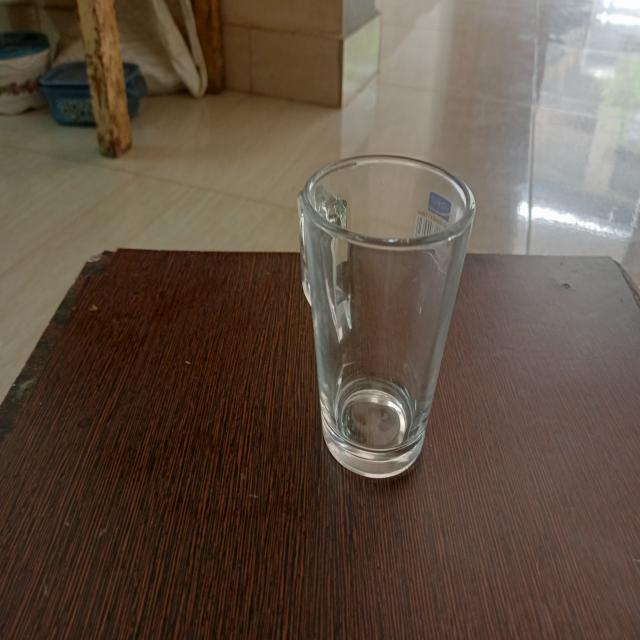glass-VX4N: (298, 152, 476, 478)
